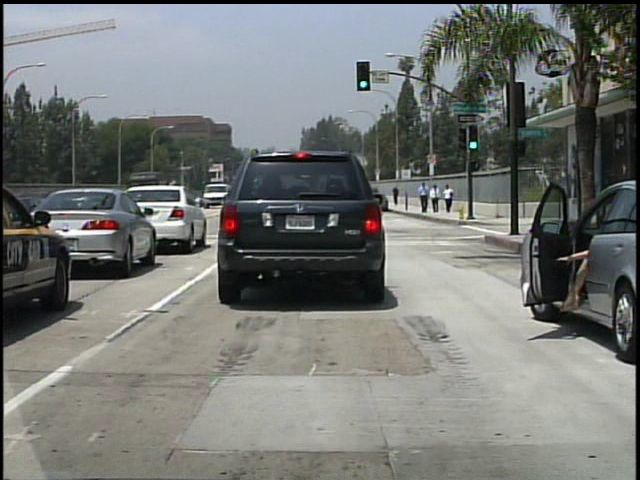person: (555, 196, 614, 331), (419, 180, 430, 214), (431, 182, 443, 213), (444, 183, 456, 213), (393, 185, 402, 206)
